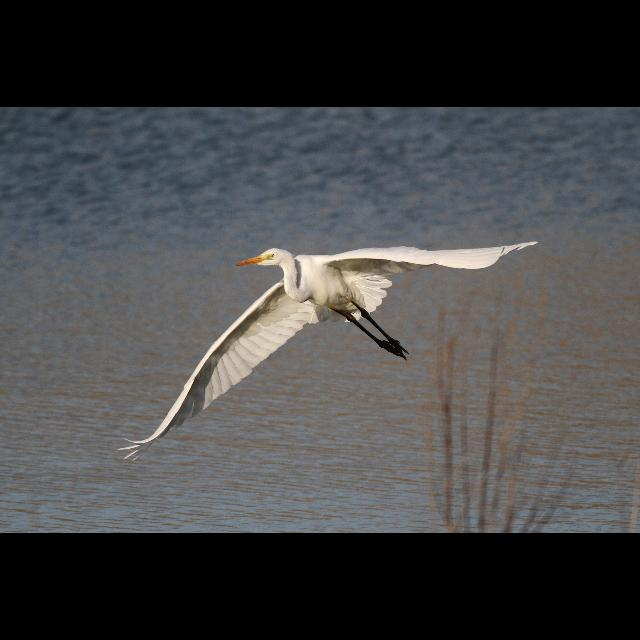egret: (122, 240, 538, 456)
